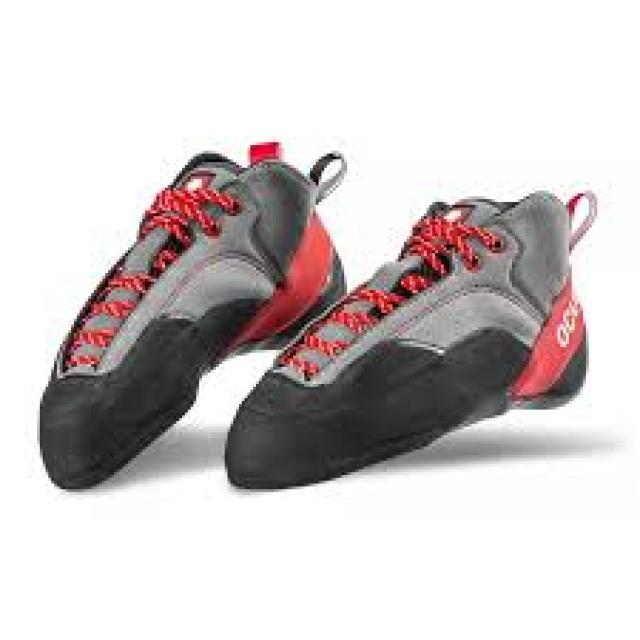climbing-shoes: (228, 188, 599, 492), (37, 143, 350, 492)
